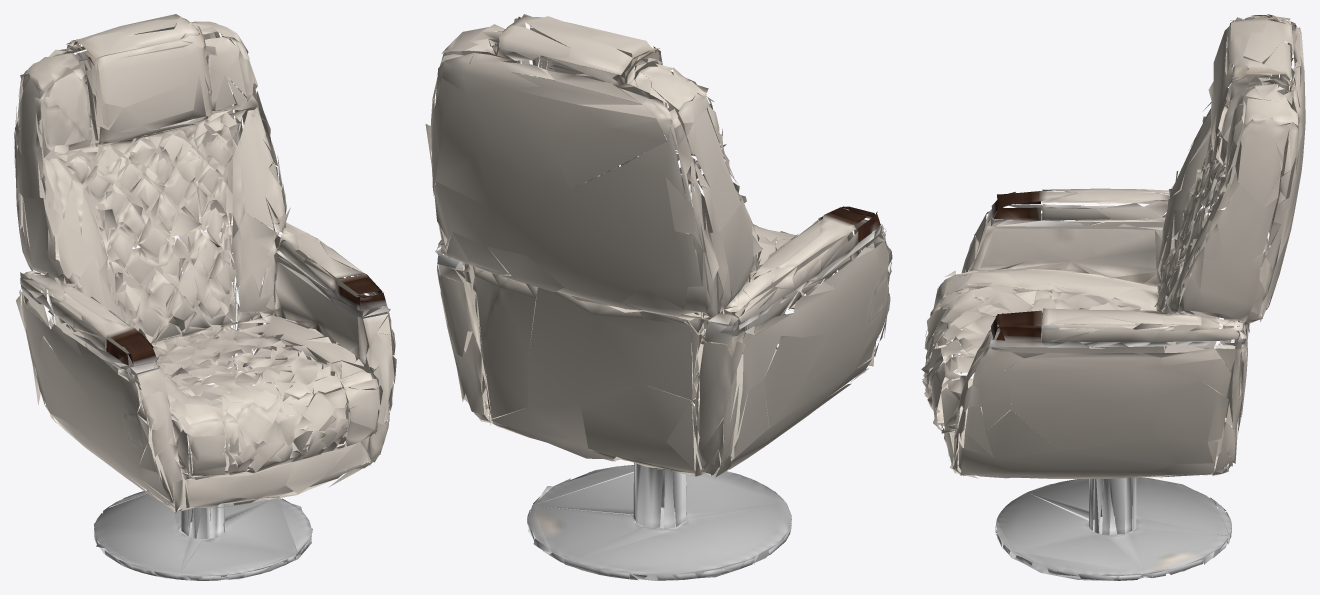
The model's file is jetseat.glb.
The picture shows the model from 3 angles, left to right: view 1: azimuth 30°, elevation 25°; view 2: azimuth 150°, elevation 25°; view 3: azimuth 270°, elevation 25°; orthographic projection. The views are drawn at different scales.
Visible parts, largest first — view 1: LO.001; view 2: LO.001; view 3: LO.001.
Boxes of the visible parts, <box> form: LO.001: <box>14,14,396,580</box>; LO.001: <box>425,14,892,580</box>; LO.001: <box>921,14,1305,580</box>.
Bounding box in the file's own units: 1.17 × 1.91 × 1.35.
Materials: 1 (1 with a texture image).
